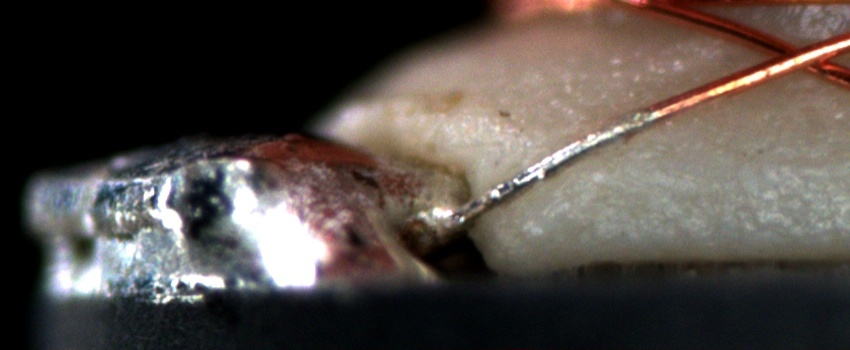CL: (750, 29, 848, 85)
DL: (684, 135, 850, 180)
TS: (448, 110, 656, 231)
